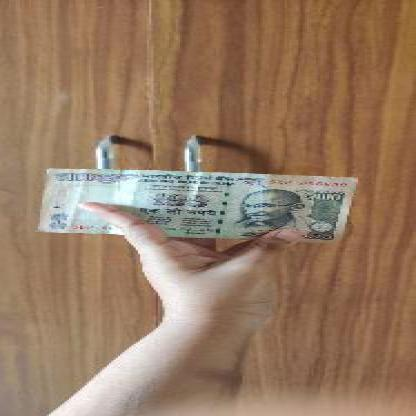Old100Front: (47, 169, 356, 237)
